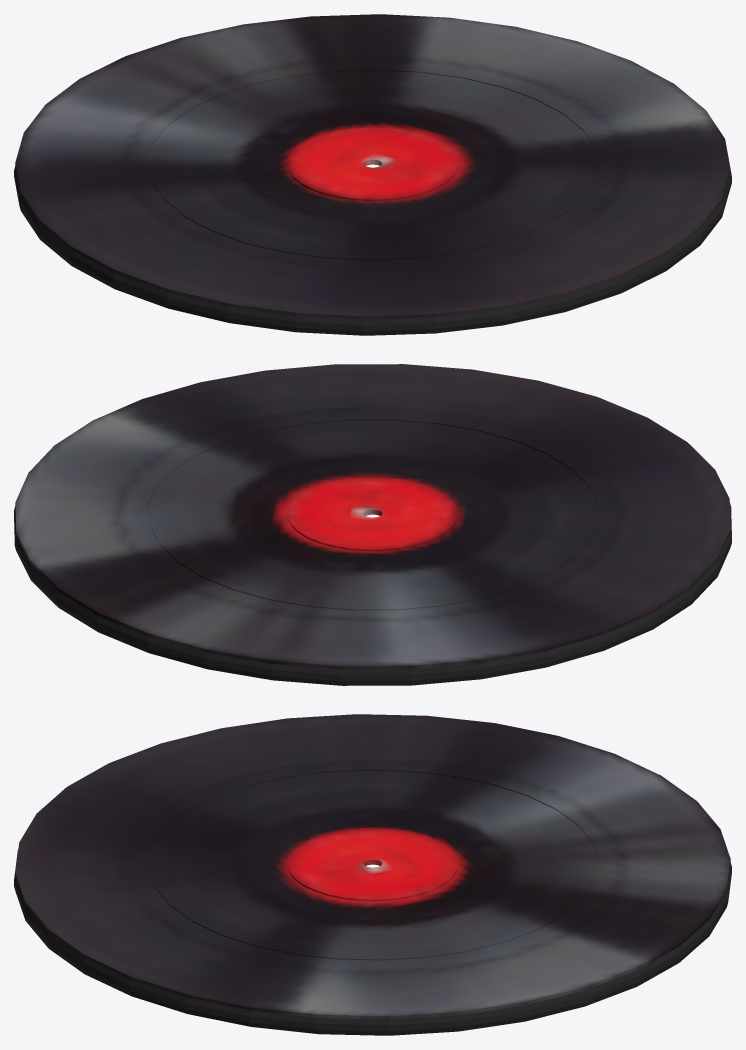
The model's file is Vinyle.fbx.
The picture shows the model from 3 angles, top to bottom: view 1: azimuth 30°, elevation 25°; view 2: azimuth 150°, elevation 25°; view 3: azimuth 270°, elevation 25°; orthographic projection.
Visible parts, largest first — view 1: Vinyle; view 2: Vinyle; view 3: Vinyle.
Part boxes in pixels (x1,y1,x2,y2): Vinyle: [14, 14, 731, 335]; Vinyle: [14, 364, 731, 685]; Vinyle: [14, 714, 731, 1035].
Size of the model in its own units: 15.05 by 0.4875 by 15.05.
